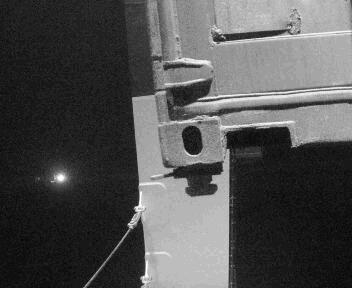twist_lock_1: (146, 159, 209, 204)
